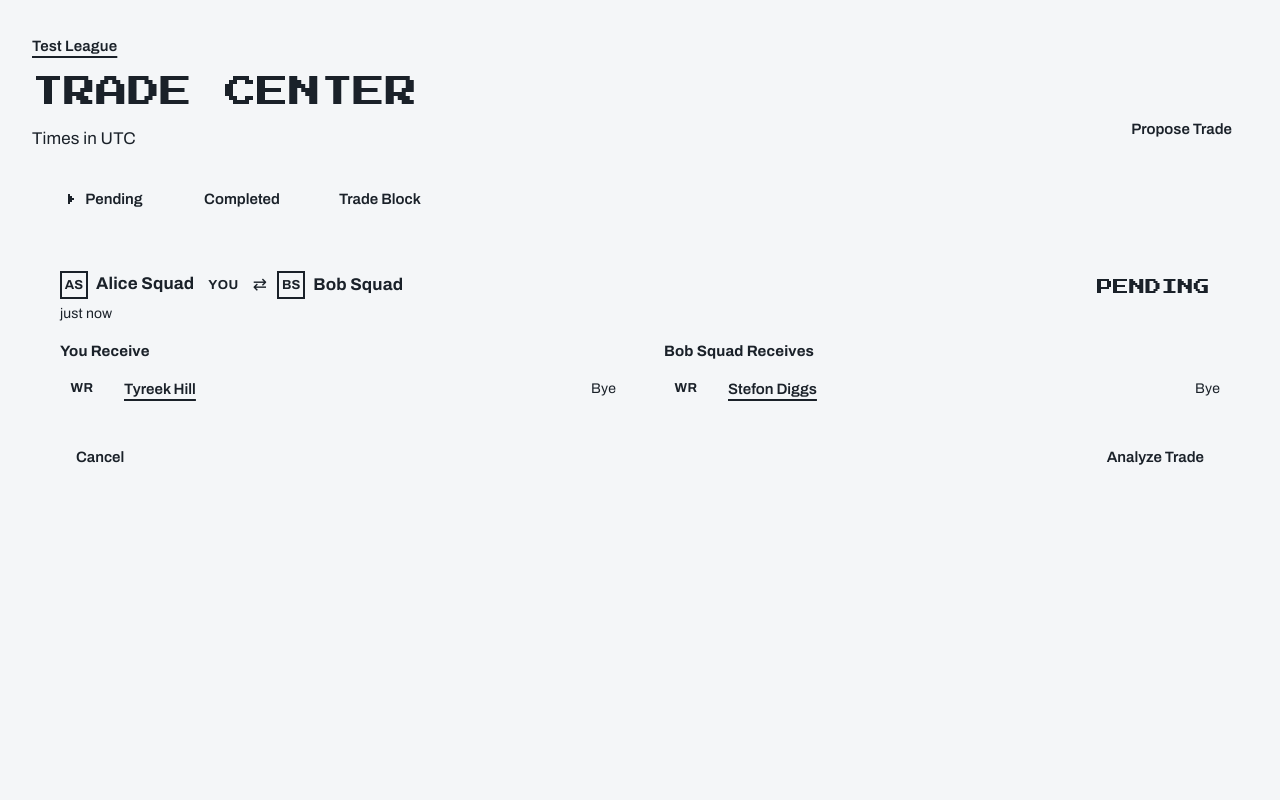
Test case: clicking a player name opens the Decision card, with context keyed off the viewer's own roster
Expected: the element with test id "trade-5" is shown, [40,255,1240,491]
Click the button "Stefon Diggs": (772, 389) [718,367,827,411]
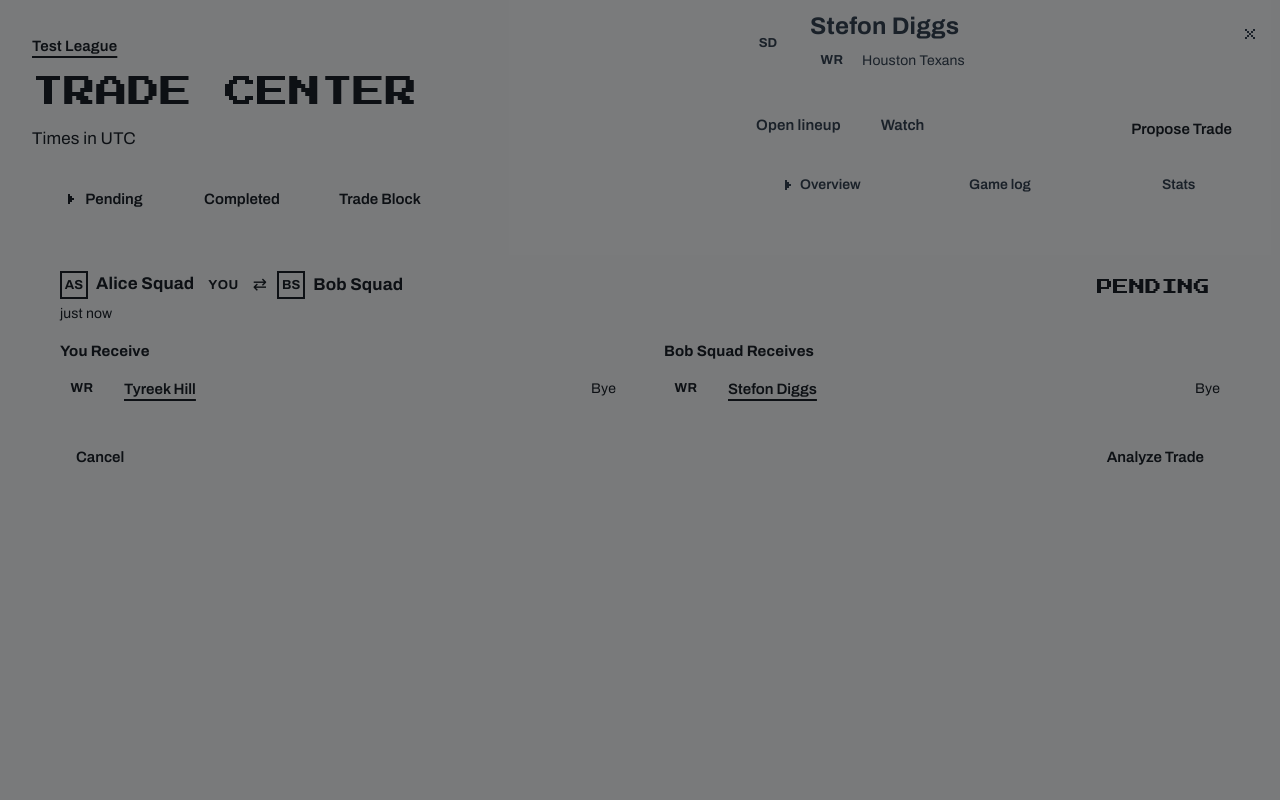
Result: the dialog with test id "decision-card" is shown at [736,12,1272,207]
Result: the link with test id "decision-card-open-lineup" is shown at [756,116,841,132]
Click the button with test id "decision-card-close": (1250, 34) [1228,12,1272,56]
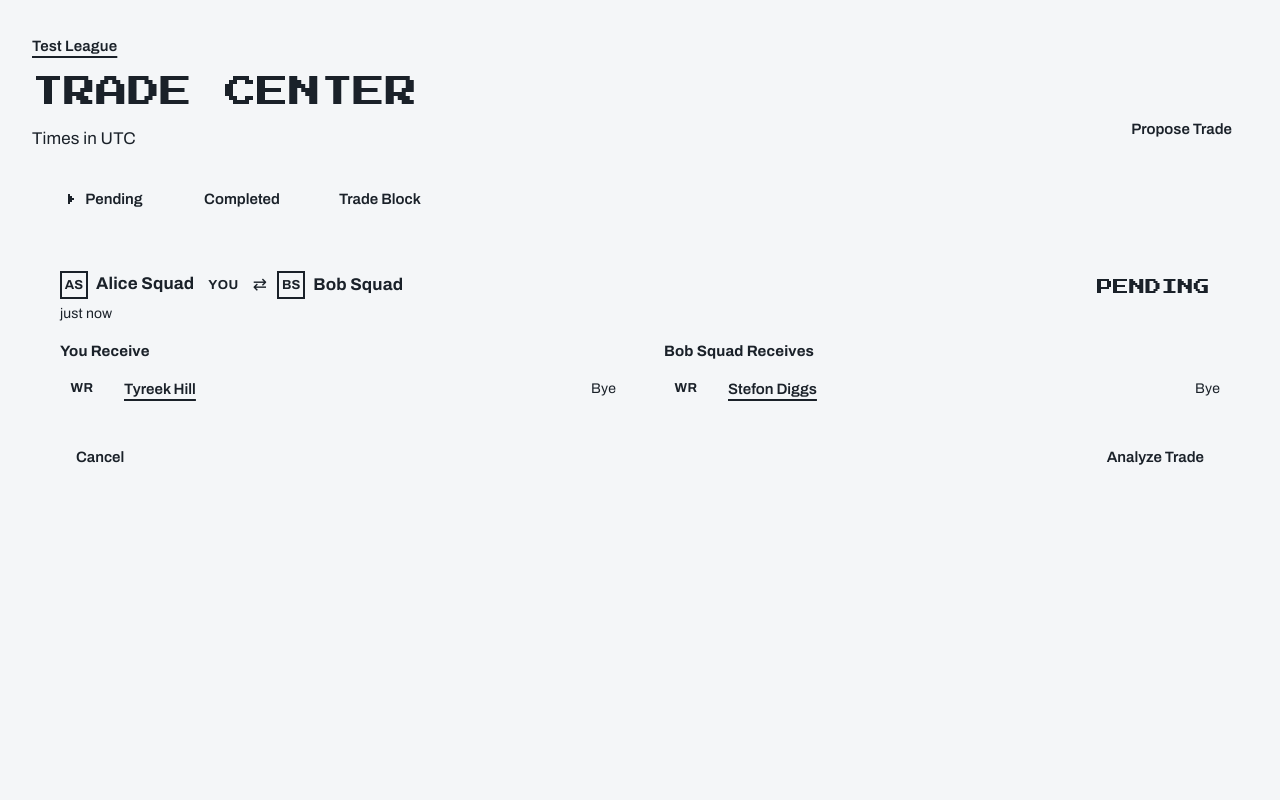
Result: the dialog with test id "decision-card" is gone
Click the button "Tyreek Hill": (160, 389) [114,367,206,411]
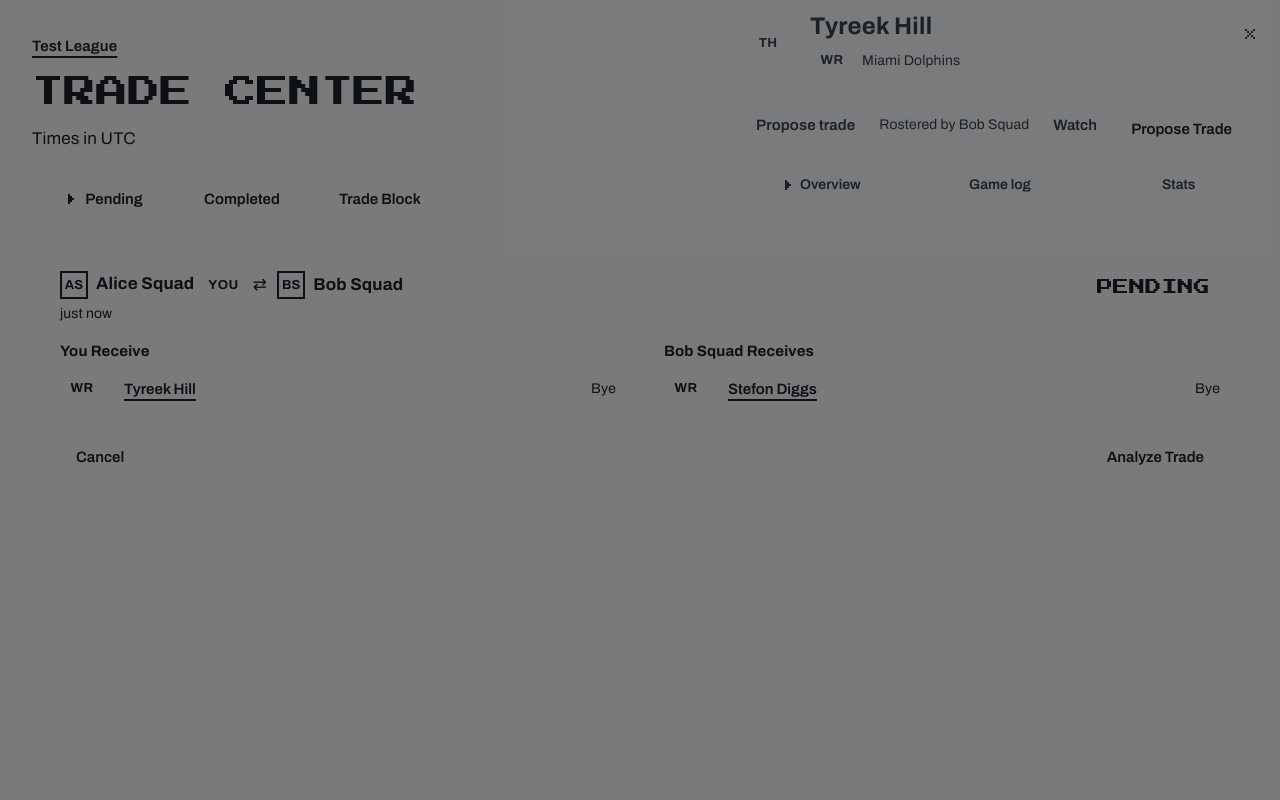
Result: the link with test id "decision-card-propose-trade" is shown at [756,116,855,132]
Result: the text "Rostered by Bob Squad" is shown at [879,114,1029,135]
